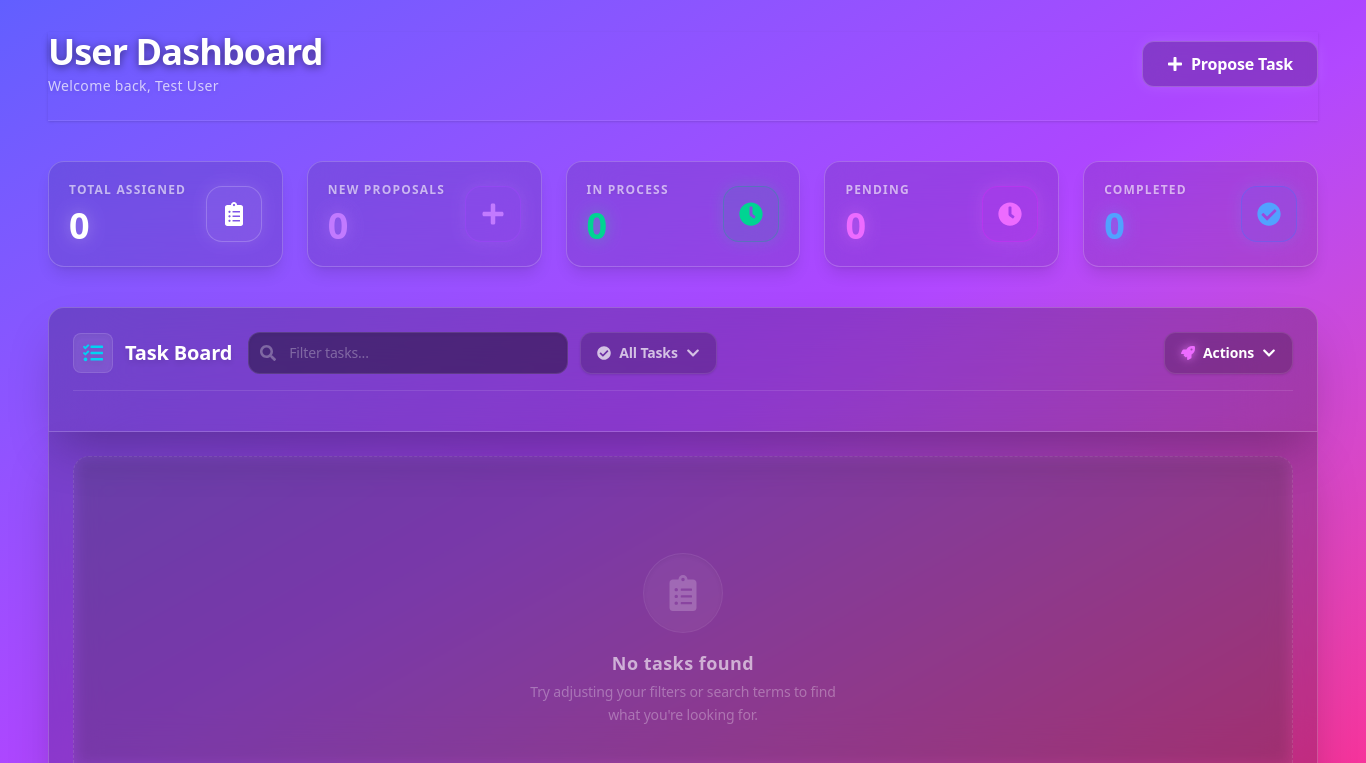
Test: UserDashboard Integration Tests › filters tasks by status via the dashboard toggle
Step 1. Click the button "All Tasks" → [649, 353], box [580,332,717,374]
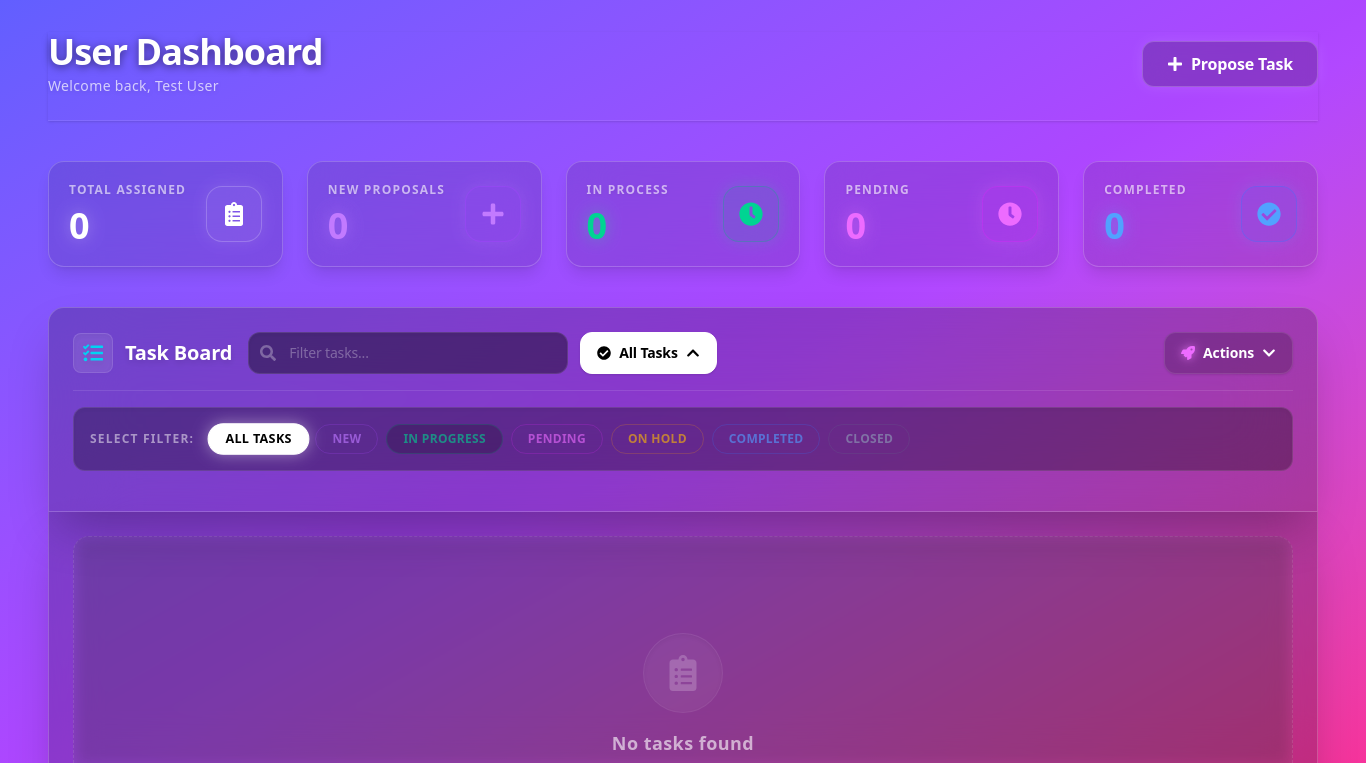
Step 2. Click the button "Completed" → [766, 439], box [712,424,820,454]
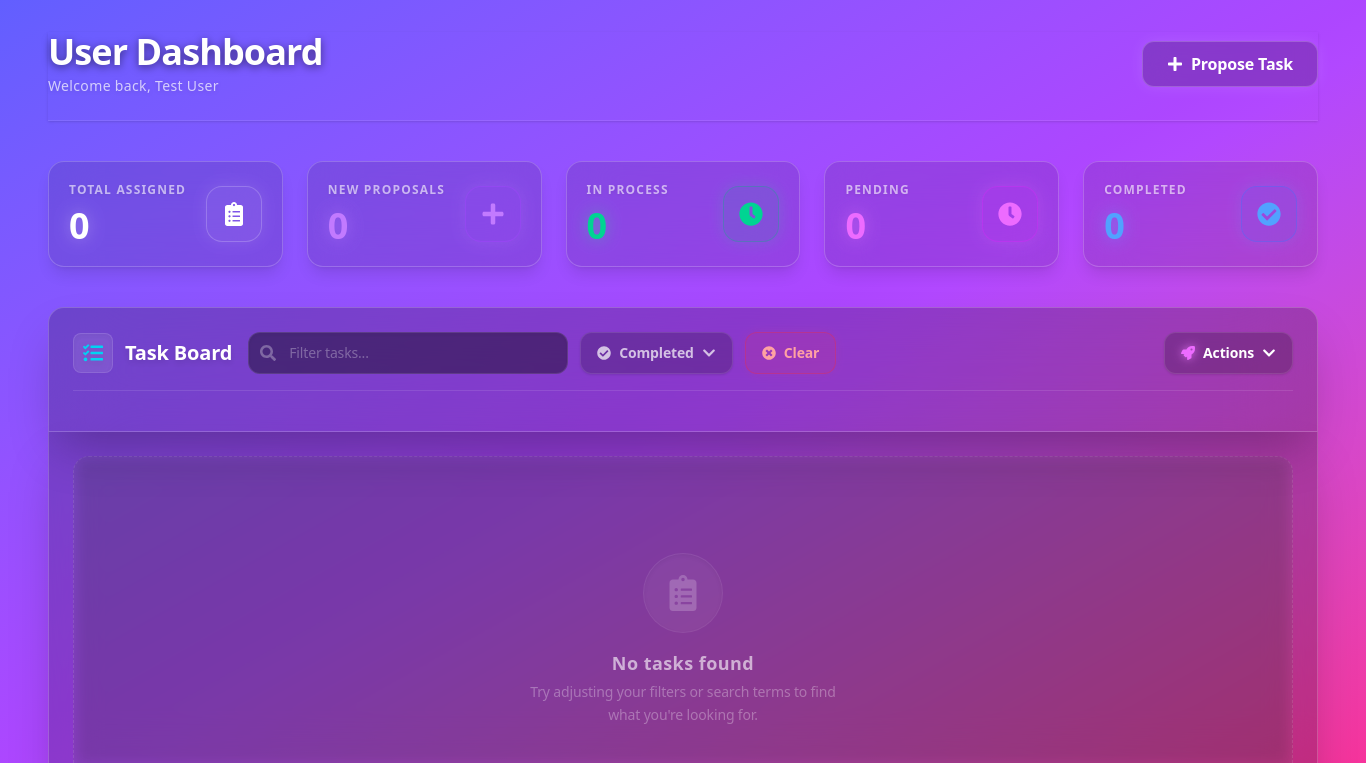
Now the button "Clear" is shown, box [745,332,836,374]
